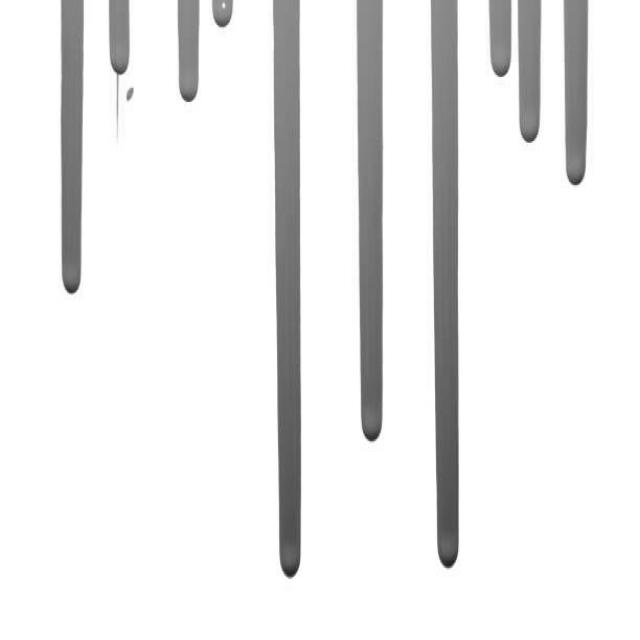paint drips: (263, 0, 313, 585), (422, 0, 468, 585), (351, 0, 391, 446), (51, 0, 89, 306), (557, 0, 593, 210), (100, 0, 142, 147), (513, 0, 547, 144), (170, 0, 204, 115), (484, 0, 513, 89), (206, 0, 237, 36)
